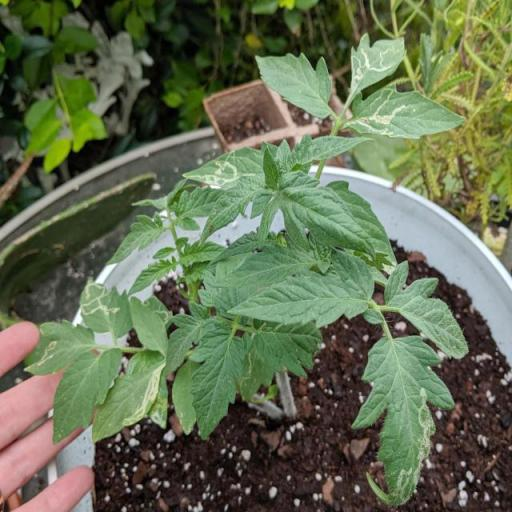disease_tomato: (352, 335, 456, 509), (90, 348, 166, 444), (342, 82, 466, 140), (182, 140, 280, 188), (80, 276, 134, 338), (350, 32, 406, 90)
